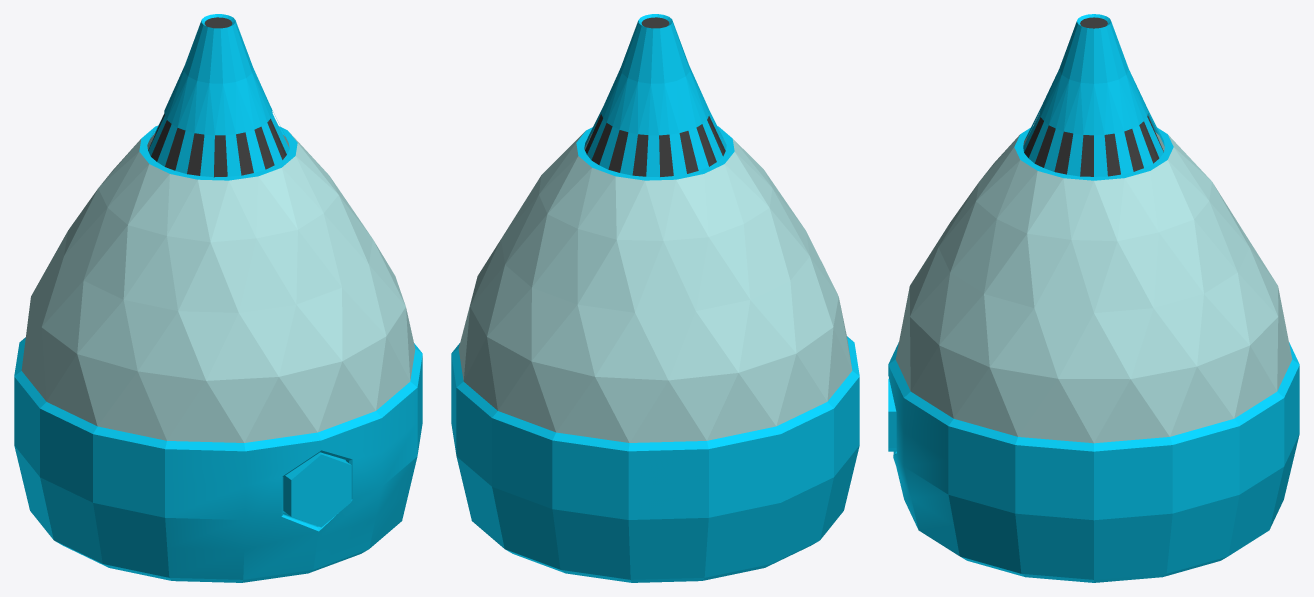
Rendered from MD_AirPurifier_260121.fbx.
The picture shows the model from 3 angles, left to right: view 1: azimuth 30°, elevation 25°; view 2: azimuth 150°, elevation 25°; view 3: azimuth 270°, elevation 25°; orthographic projection.
Parts seen in each view (by area): view 1: polySurface18, pCylinder43, polySurface19; view 2: polySurface18, polySurface19; view 3: polySurface18, polySurface19, pCylinder43.
Part boxes in pixels (x1,y1,x2,y2): polySurface18: (14,14,422,582); pCylinder43: (283,452,351,527); polySurface19: (148,17,286,177); polySurface18: (451,14,859,582); polySurface19: (585,17,725,176); polySurface18: (888,14,1299,582); polySurface19: (1024,17,1163,176); pCylinder43: (888,378,896,451).
Size of the model in its own units: 142 by 186 by 142.
